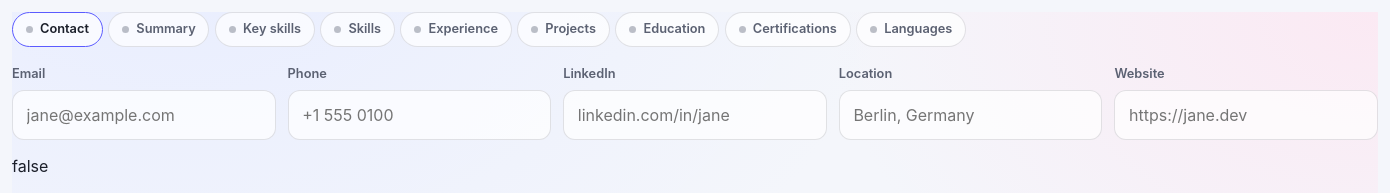
Test: SectionsEditor › adds skills as chips and reports content
Expected: the text with test id "has-content" reads "false", [12, 156, 48, 176]
Click the button "Skills" at (358, 29), box [320, 12, 395, 47]
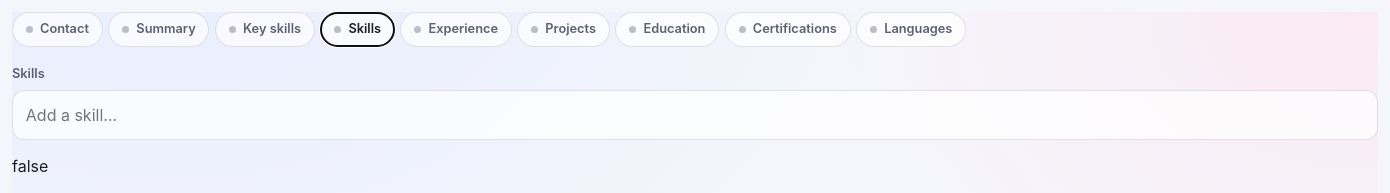
Type "Go" into the field with placeholder "Add a skill…" at (695, 115), box [22, 99, 1368, 131]
Then press Enter
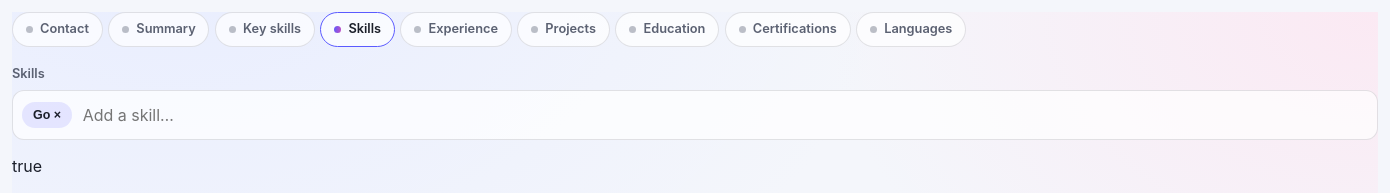
Type "Python" into the field with placeholder "Add a skill…" at (723, 115), box [79, 99, 1368, 131]
Then press Enter
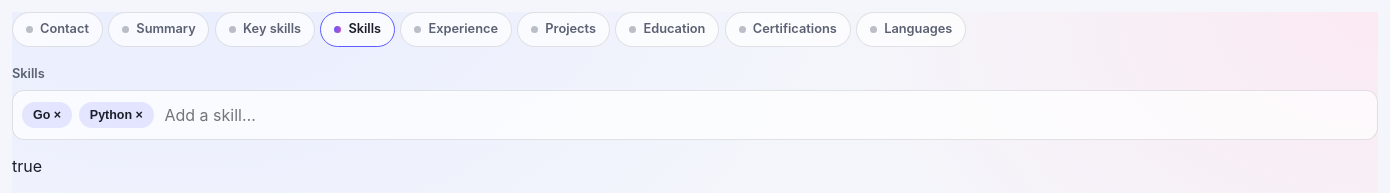
Now the button "Go ×" is shown, box [22, 102, 72, 128]
Now the text with test id "has-content" reads "true", box [12, 156, 42, 176]
Now the button "Python ×" is shown, box [79, 102, 154, 128]
